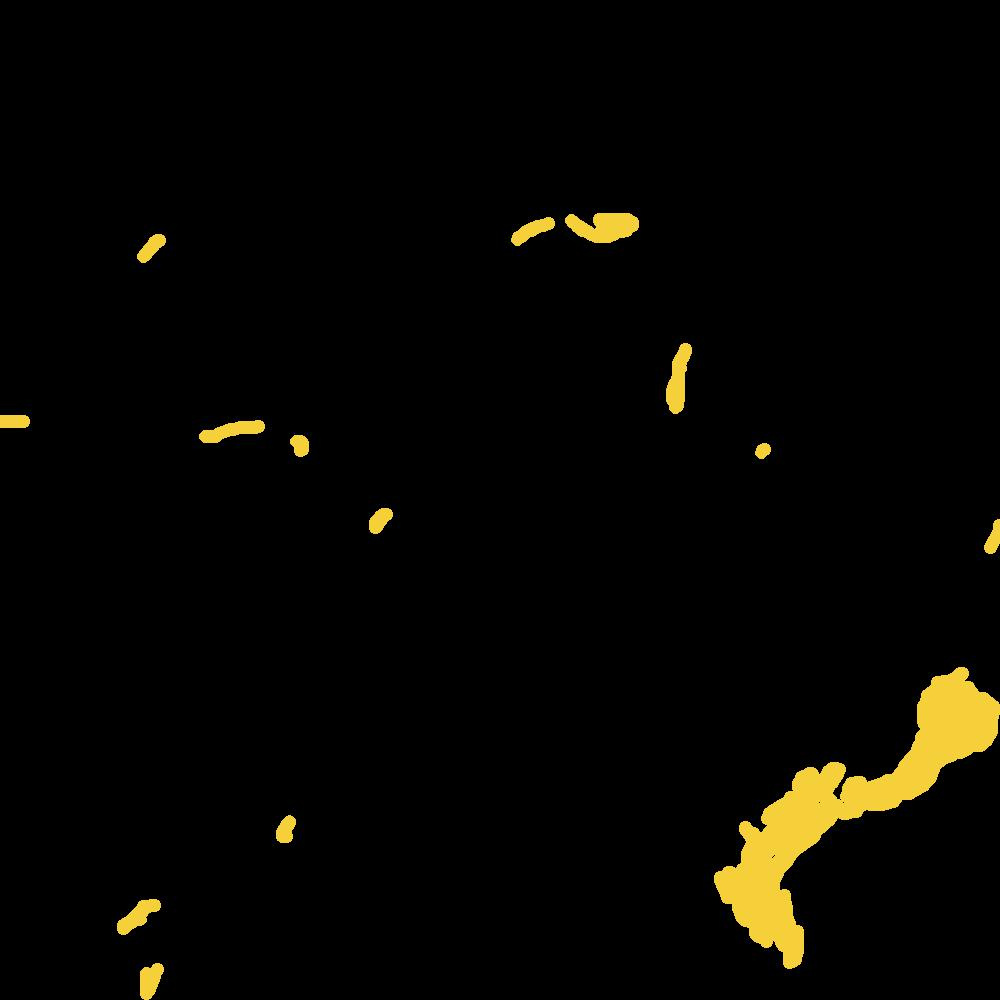legal: (717, 669, 994, 965), (525, 216, 643, 241), (668, 350, 685, 397), (147, 959, 160, 1000), (139, 236, 163, 256), (277, 809, 292, 836), (979, 532, 1000, 551), (375, 505, 388, 532)
